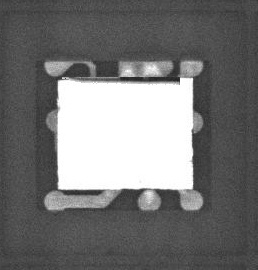DIE_BROKEN: (65, 73, 181, 86)
